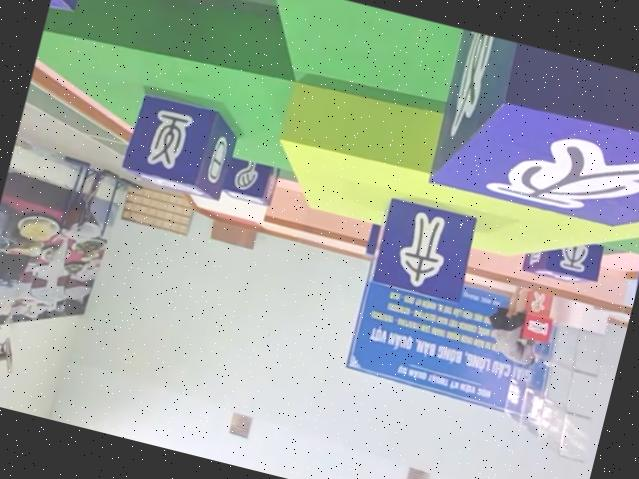R2 Fake Blue: (423, 29, 639, 254), (120, 89, 244, 202), (364, 192, 480, 307), (519, 225, 606, 288), (218, 153, 282, 207), (47, 0, 101, 19)
